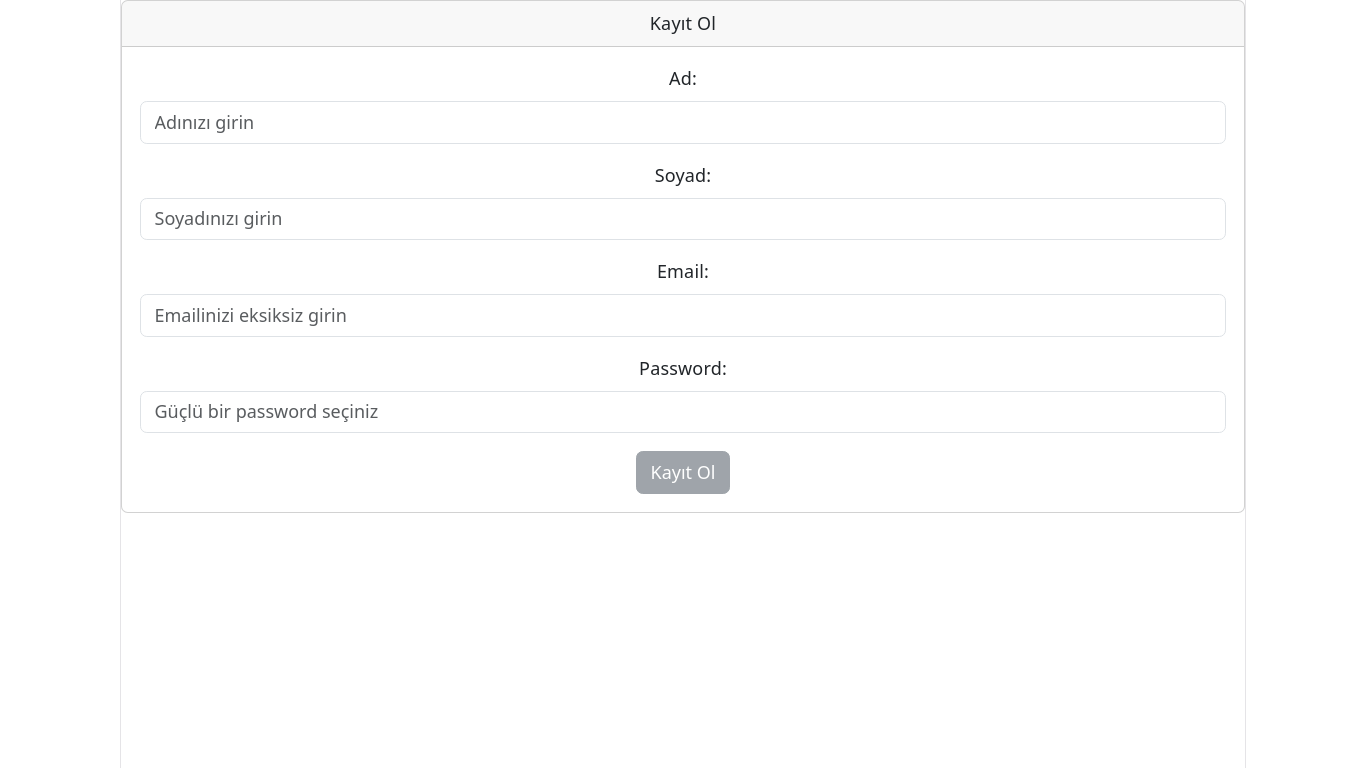
Register Page › Error Messages › name input throws error for 2 chars
Type "bu" into the field with test id "ad-input" at (683, 123), box 140,101 -> 1226,144
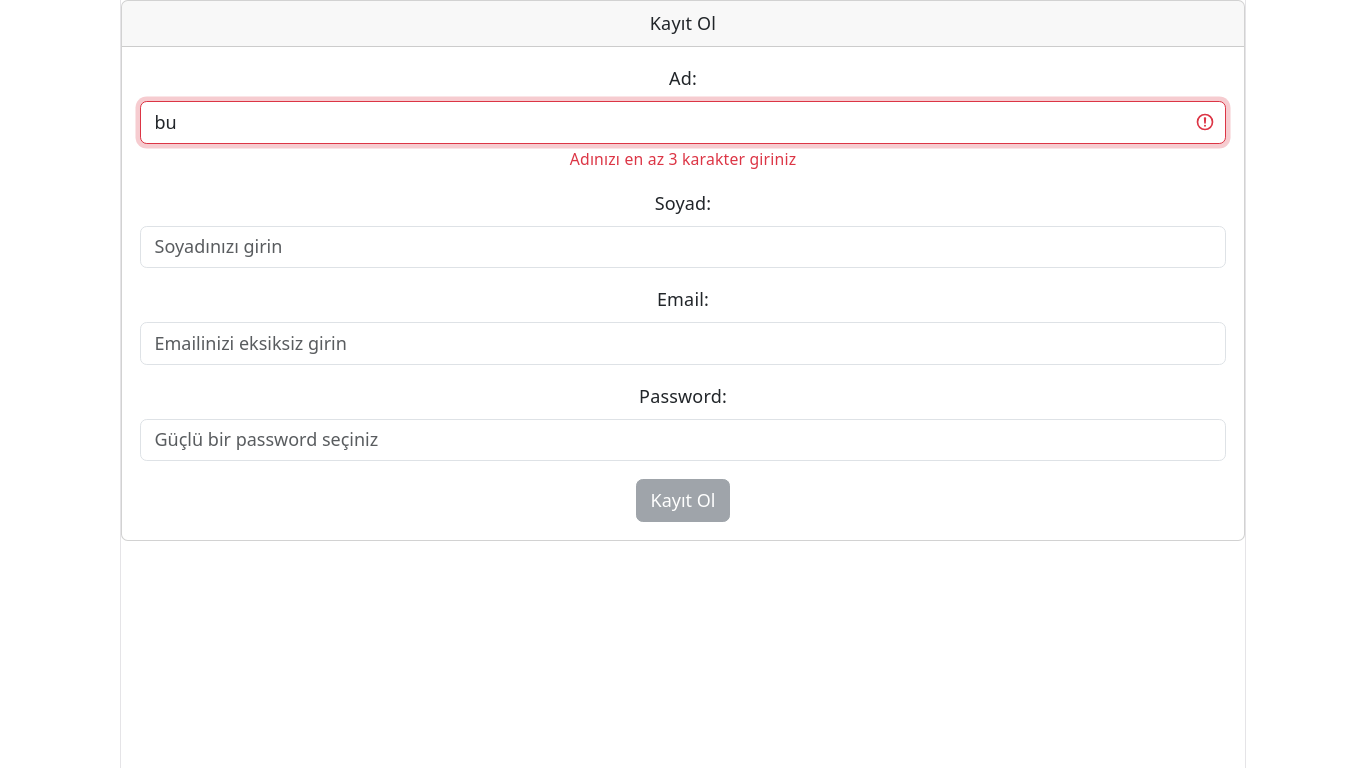
Now the text "Adınızı en az 3 karakter giriniz" is shown, box 570,148 -> 796,170
